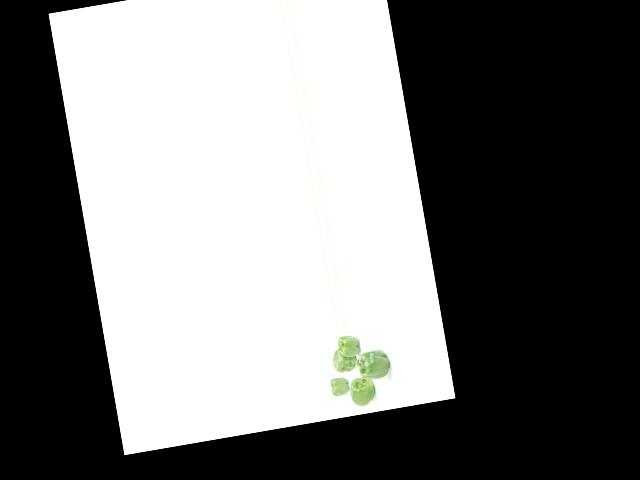bell_pepper: (336, 332, 364, 360)
